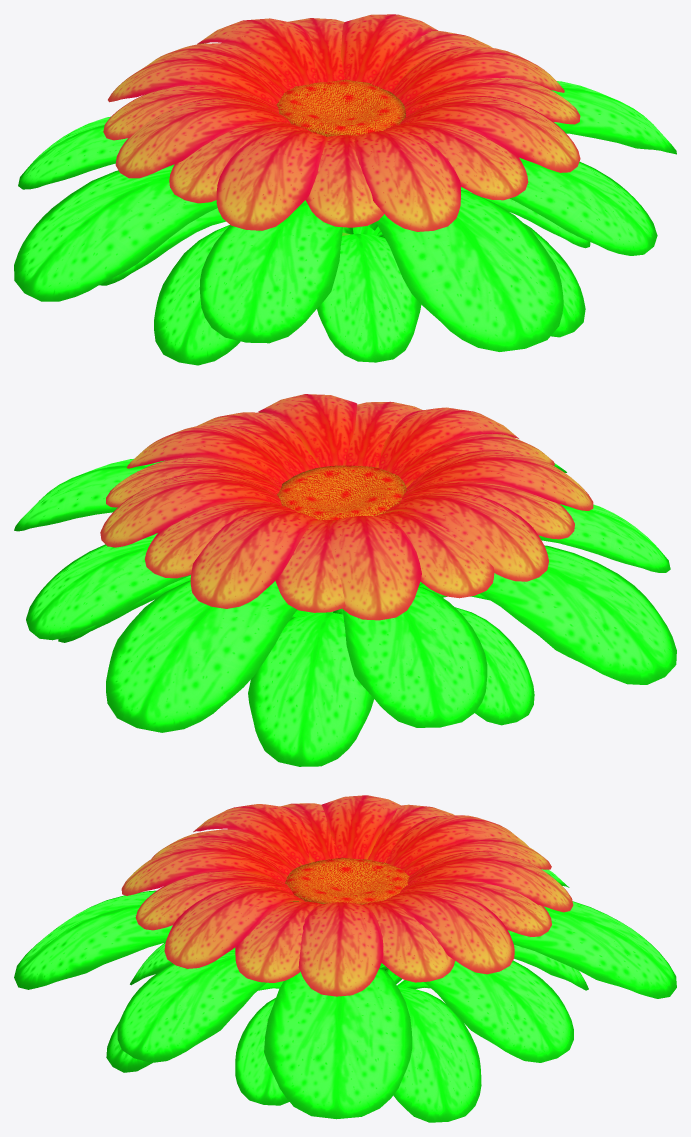
The model's file is flower.glb.
The picture shows the model from 3 angles, top to bottom: view 1: azimuth 30°, elevation 25°; view 2: azimuth 150°, elevation 25°; view 3: azimuth 270°, elevation 25°; orthographic projection. The views are drawn at different scales.
Visible parts, largest first — view 1: Plane033, Plane032, Plane031, Plane049, Plane037, Plane035, Plane028, Plane038, Plane036, Plane045, Sphere002, Plane020 (+16 smaller); view 2: Plane019, Plane032, Plane034, Plane046, Plane024, Plane040, Plane039, Plane038, Plane041, Sphere002, Plane037, Plane030 (+14 smaller); view 3: Plane026, Plane028, Plane024, Plane043, Plane019, Plane033, Plane042, Plane036, Plane041, Sphere002, Plane040, Plane035 (+15 smaller).
Part boxes in pixels (x1,y1,x2,y2): Plane033: (376,190,563,351); Plane032: (14,164,305,301); Plane031: (199,200,353,343); Plane049: (317,233,421,362); Plane037: (216,129,328,230); Plane035: (354,130,460,231); Plane028: (509,157,657,255); Plane038: (115,98,290,178); Plane036: (400,95,580,172); Plane045: (154,225,240,365); Sphere002: (276,79,405,136); Plane020: (383,121,528,200); Plane019: (106,580,297,732); Plane032: (479,545,676,684); Plane034: (333,587,487,727); Plane046: (248,612,373,766); Plane024: (26,533,190,640); Plane040: (190,510,318,608); Plane039: (328,516,421,620); Plane038: (384,491,548,581); Plane041: (100,473,281,547); Sphere002: (276,465,406,520); Plane037: (406,450,593,510); Plane030: (375,511,494,598); Plane026: (264,967,412,1119); Plane028: (117,947,266,1062); Plane024: (380,960,573,1062); Plane043: (393,986,481,1122); Plane019: (380,901,676,998); Plane033: (14,890,172,989); Plane042: (298,902,383,996); Plane036: (164,885,304,968); Plane041: (384,888,514,974); Sphere002: (285,857,409,904); Plane040: (407,851,573,912); Plane035: (121,841,286,895).
Bounding box in the file's own units: 103 × 31.17 × 102.
Materials: 5 (3 with a texture image).
